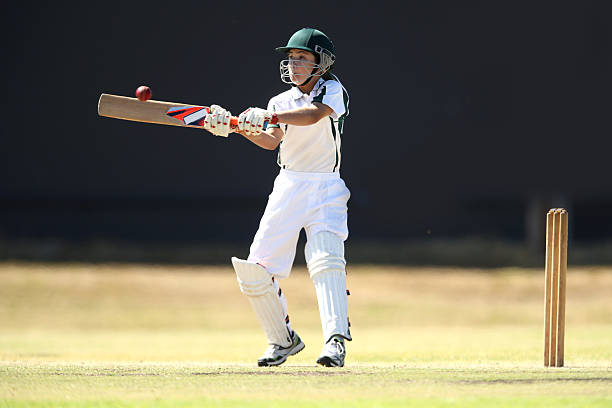bottom left: (92, 88, 109, 105)
bottom right: (84, 104, 104, 124)
top left: (202, 100, 218, 116)
top right: (195, 120, 208, 133)
